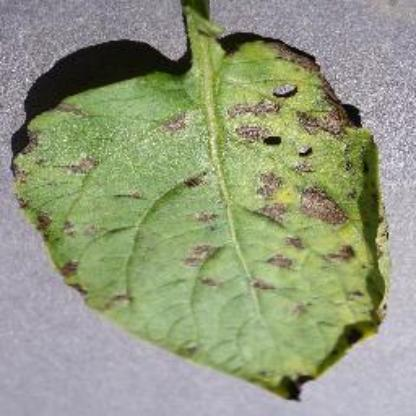Early-Blight: (15, 8, 396, 400)
